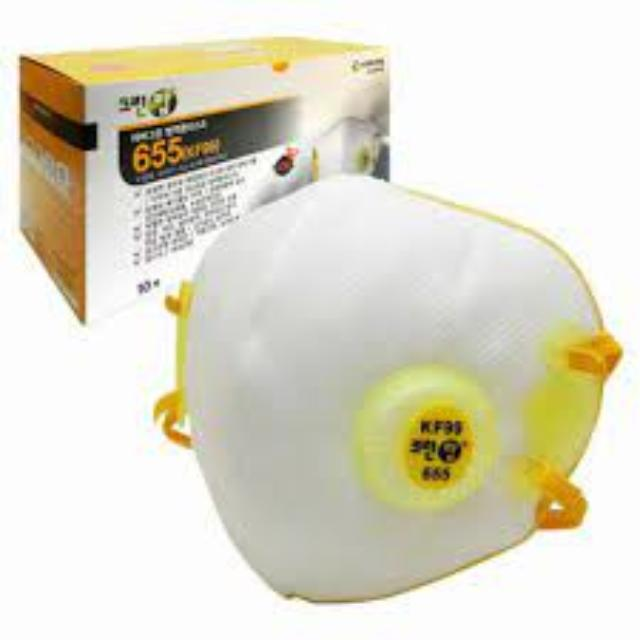masks: (148, 165, 614, 620)
